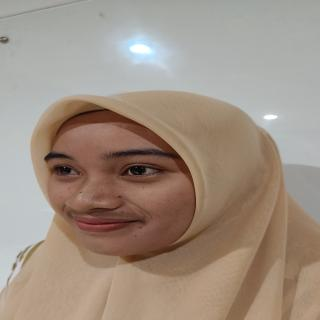Senang: (40, 105, 211, 263)
